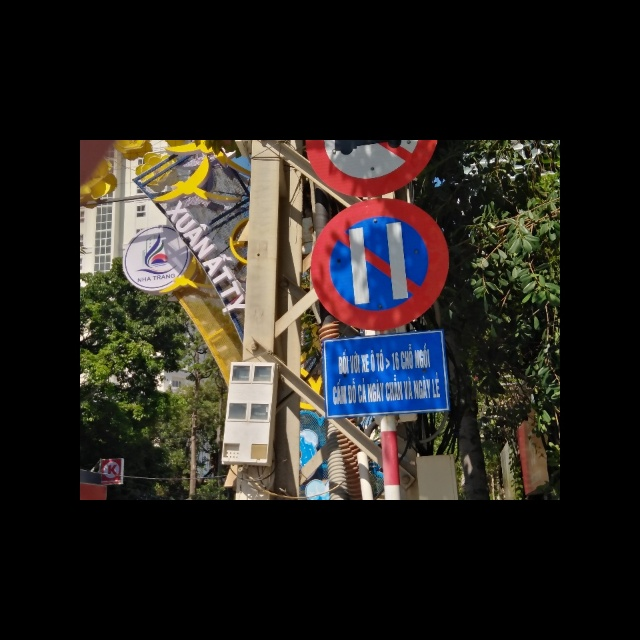Cấm đỗ xe ngày chẵn: (306, 197, 453, 329)
